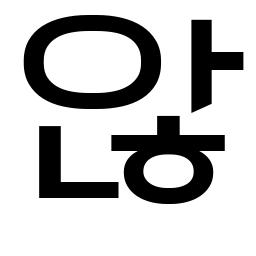Gaji: (181, 41, 226, 86)
